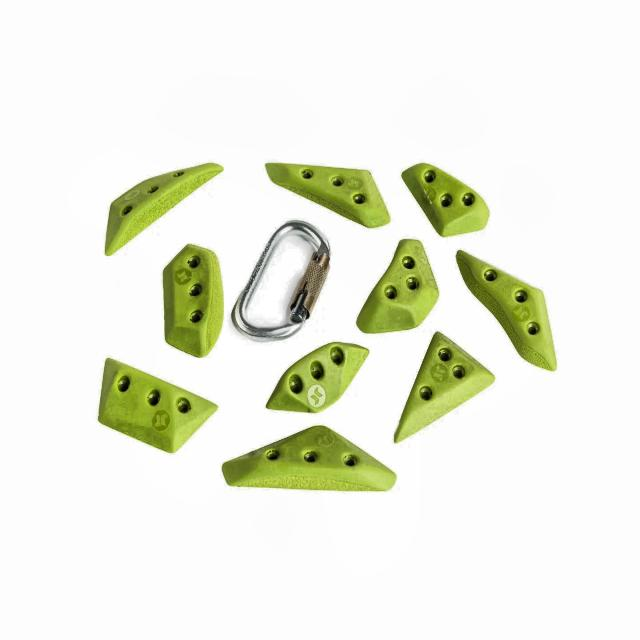Hold: (222, 424, 408, 526), (443, 248, 583, 373), (92, 350, 227, 460), (386, 330, 499, 451), (99, 160, 230, 254), (261, 150, 391, 238), (158, 255, 253, 355), (357, 227, 441, 339), (271, 331, 372, 420), (392, 156, 497, 239)
